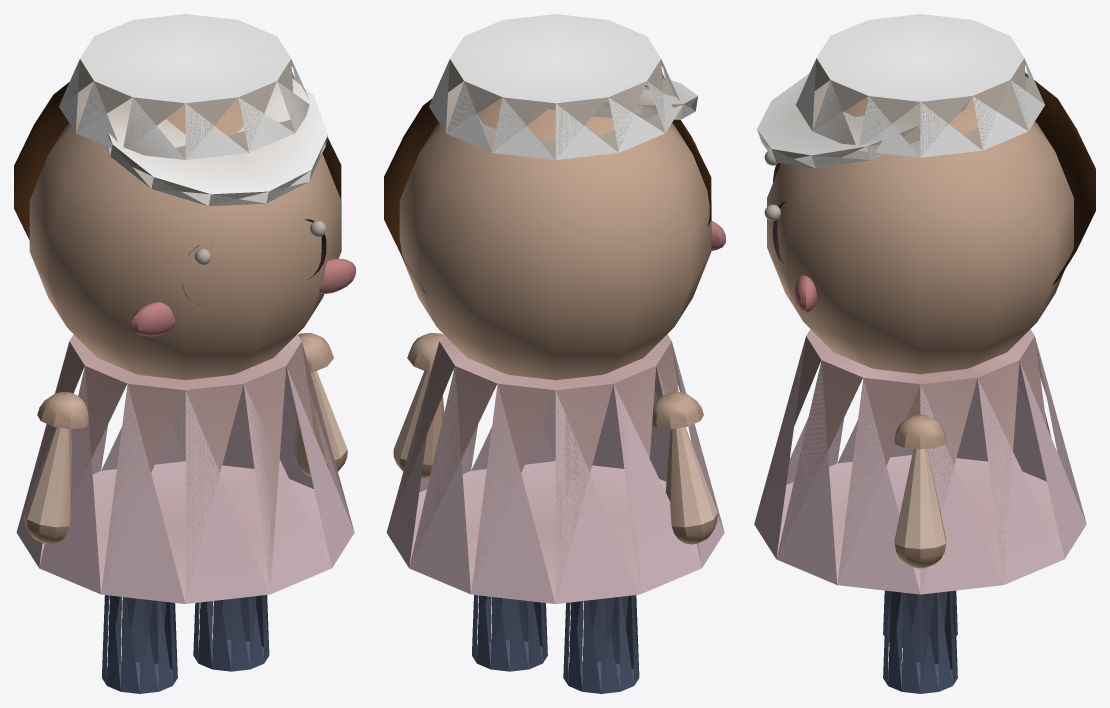
3 renders of one model, left to right at view 1: azimuth 30°, elevation 25°; view 2: azimuth 150°, elevation 25°; view 3: azimuth 270°, elevation 25°, orthographic.
Parts seen in each view (by area): view 1: pet_p689d90e2; view 2: pet_p689d90e2; view 3: pet_p689d90e2.
Boxes of the visible parts, bbox=[...] form: pet_p689d90e2: bbox=[14, 14, 355, 693]; pet_p689d90e2: bbox=[384, 14, 725, 693]; pet_p689d90e2: bbox=[754, 14, 1095, 693].
Bounding box in the file's own units: 0.3464 × 0.635 × 0.3287.
